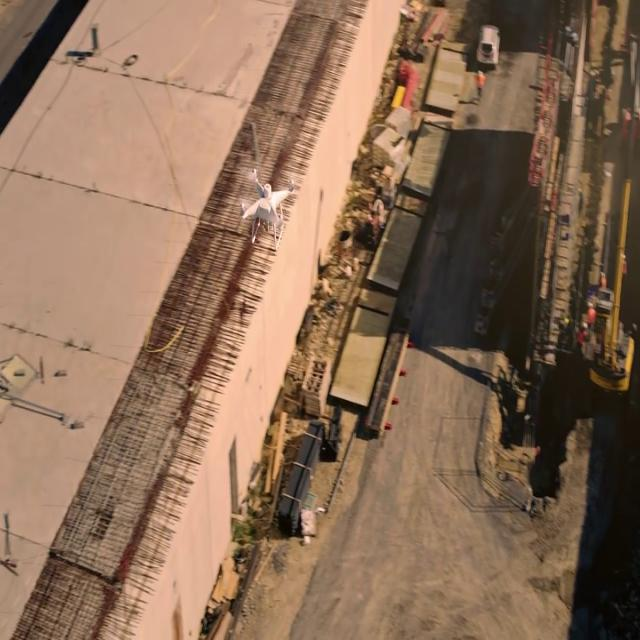drone: (238, 160, 296, 252)
